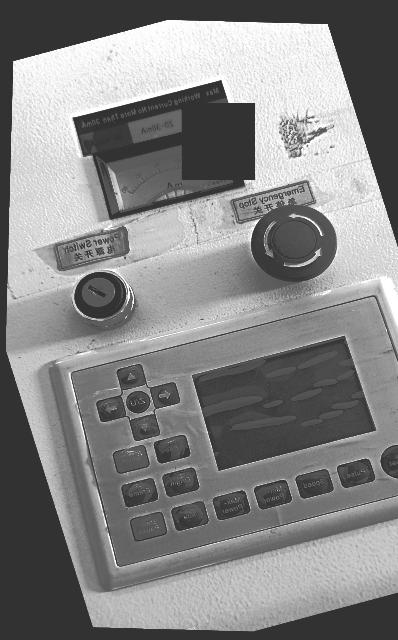Amp_Meter: (96, 140, 237, 215)
Display: (194, 339, 375, 470)
Down_button: (130, 414, 160, 440)
Emergency_Stop: (252, 205, 337, 282)
Enter_button: (113, 446, 149, 473)
Esc_button: (154, 435, 190, 463)
File_button: (172, 502, 208, 530)
Frame_button: (122, 479, 158, 507)
Left_button: (151, 383, 180, 408)
Max-Power_button: (213, 491, 250, 520)
Min-Power_button: (255, 480, 291, 509)
Origin_button: (163, 468, 199, 497)
Power_switch: (72, 272, 136, 330)
Pulse_button: (338, 459, 375, 488)
Reset_button: (381, 446, 398, 478)
Right_button: (97, 396, 125, 421)
Speed_button: (296, 470, 333, 498)
Start-Pause_button: (130, 513, 167, 541)
Up_button: (117, 364, 146, 389)
Z_U_button: (126, 391, 150, 413)
